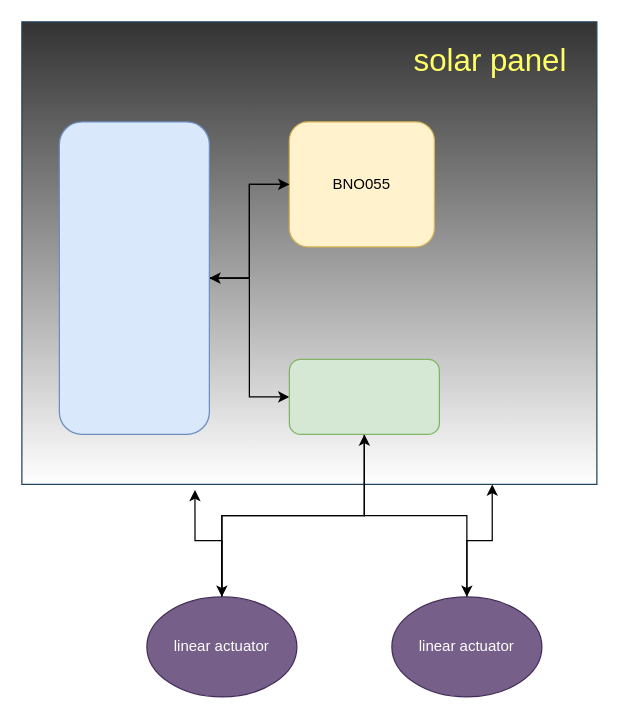
Some shapes in this 619 by 719 pixel diagram are drawn without their labels. Each missing label, with the centre of its shape:
Arduino Nano: the point at 133,277
DSUB 9PIN: the point at 363,396
